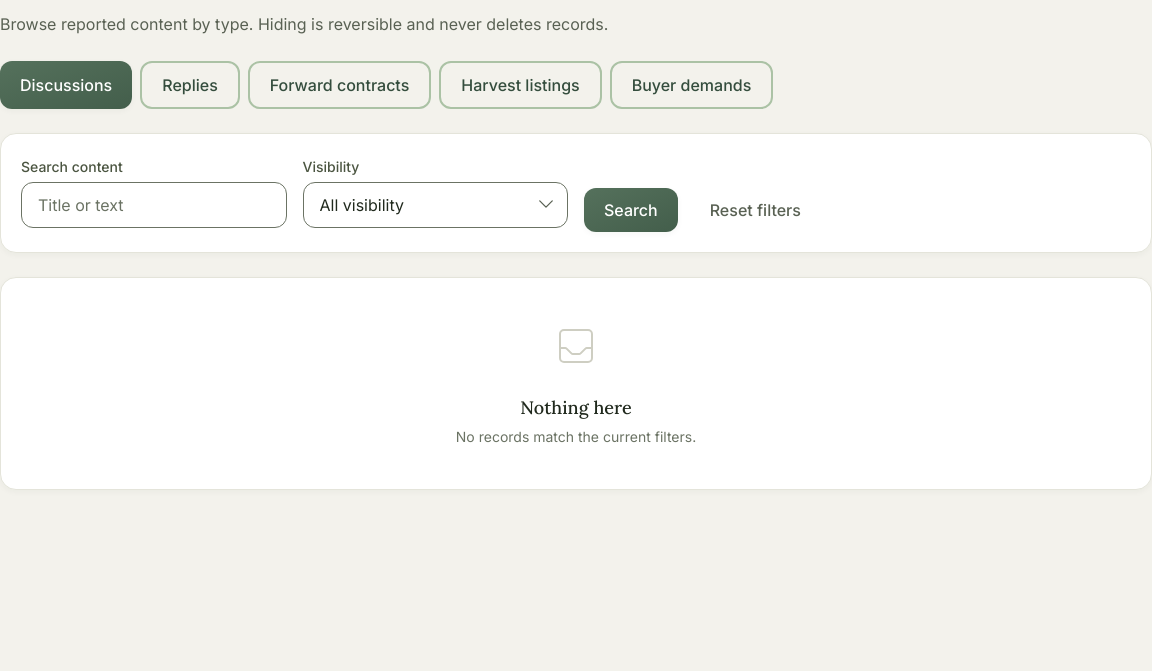
Test: AdminContentPage.vue › names the affected split family when moderating a clone
Step 1. Click the button "Forward contracts" → (340, 85), box [248,61,431,109]
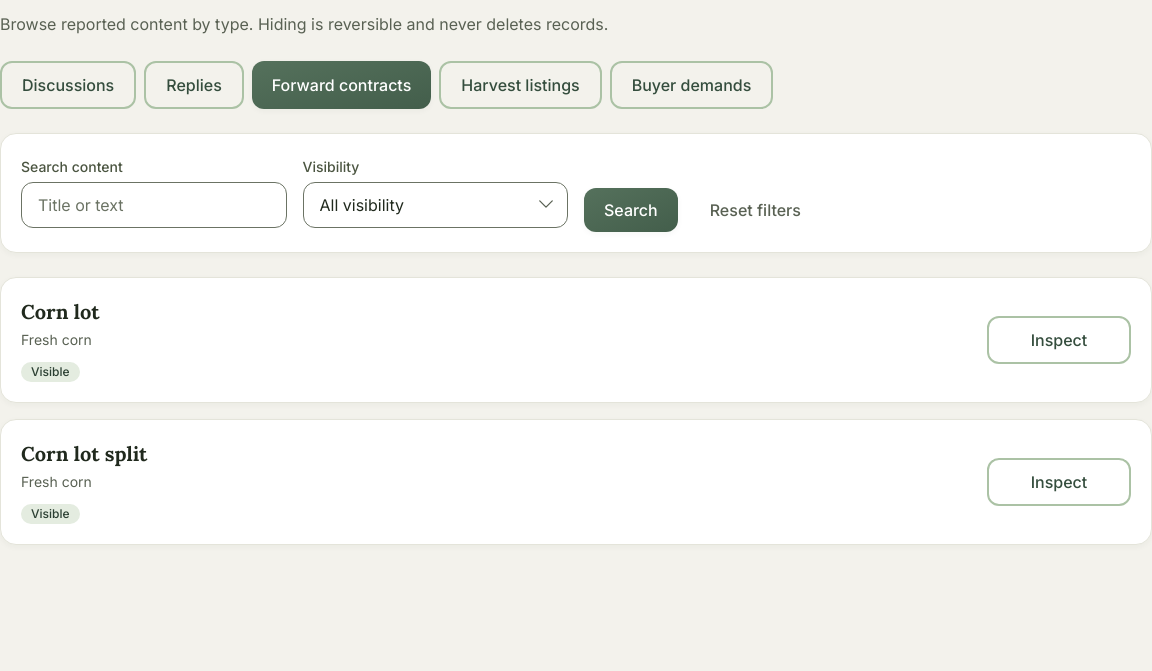
Step 2. Click the button "Inspect" in the row of "Corn lot split" → (1059, 482), box [987,458,1131,506]
(page scrolled)
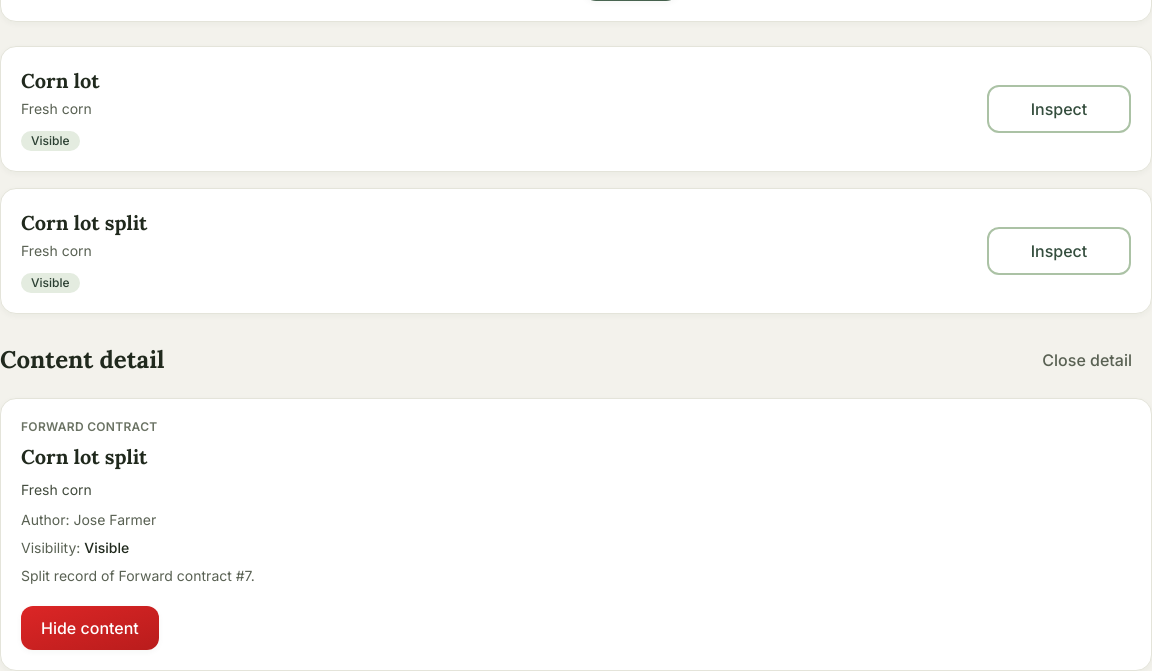
Step 3. Click the button with test id "content-hide" → (90, 628), box [21,606,159,650]
(page scrolled)
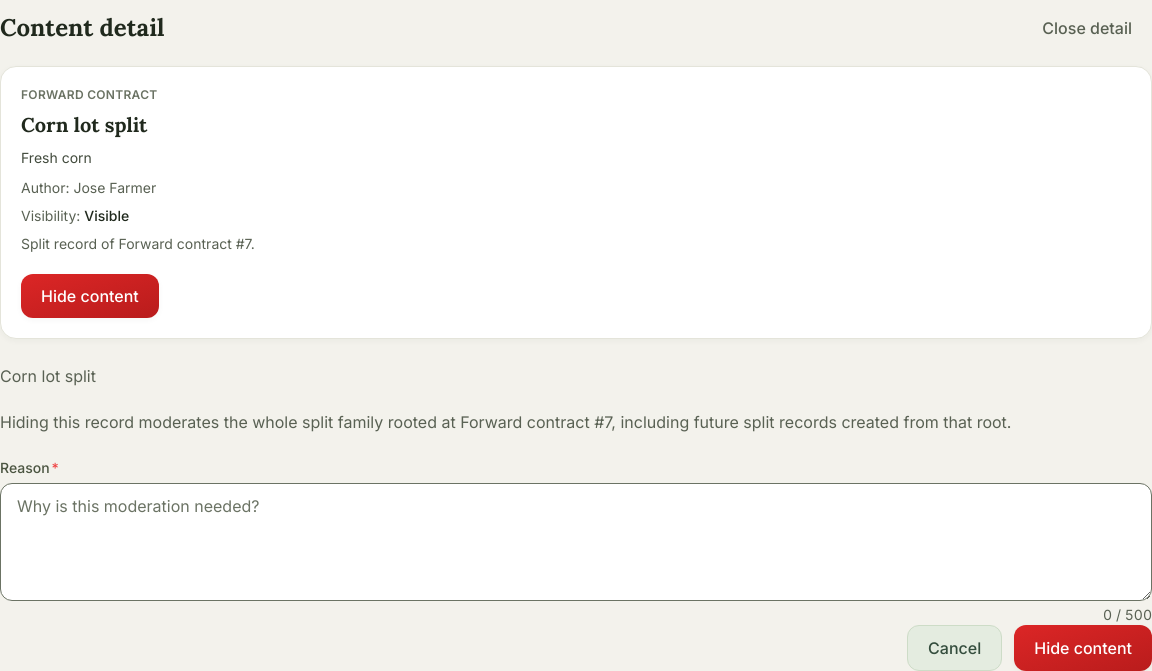
Expected: the element with test id "content-moderation-dialog" shows "7", [0,412,1012,432]
Expected: the element with test id "content-moderation-dialog" shows "split family", [0,412,1012,432]
Expected: the element with test id "content-moderation-dialog" shows "future split", [0,412,1012,432]
